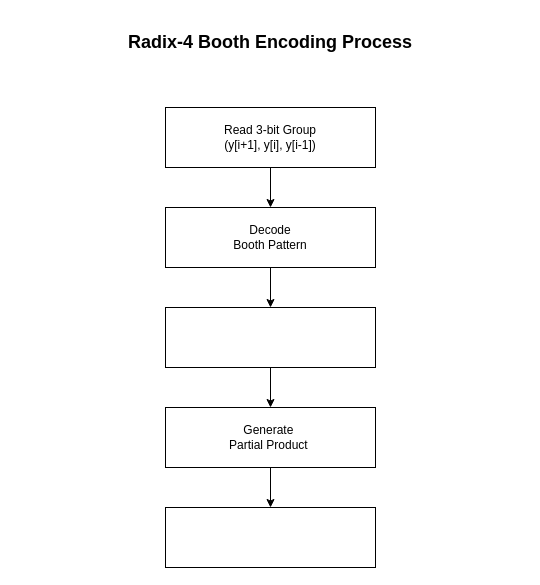
Some shapes in this 540 by 585 pixel diagram are drawn without their labels. Each missing label, with the box of its shape:
Output Correction Bit (for negative multiplies): (164, 506, 376, 568)
Select Operation 0, +X, +2X, -X, -2X: (164, 306, 376, 368)
